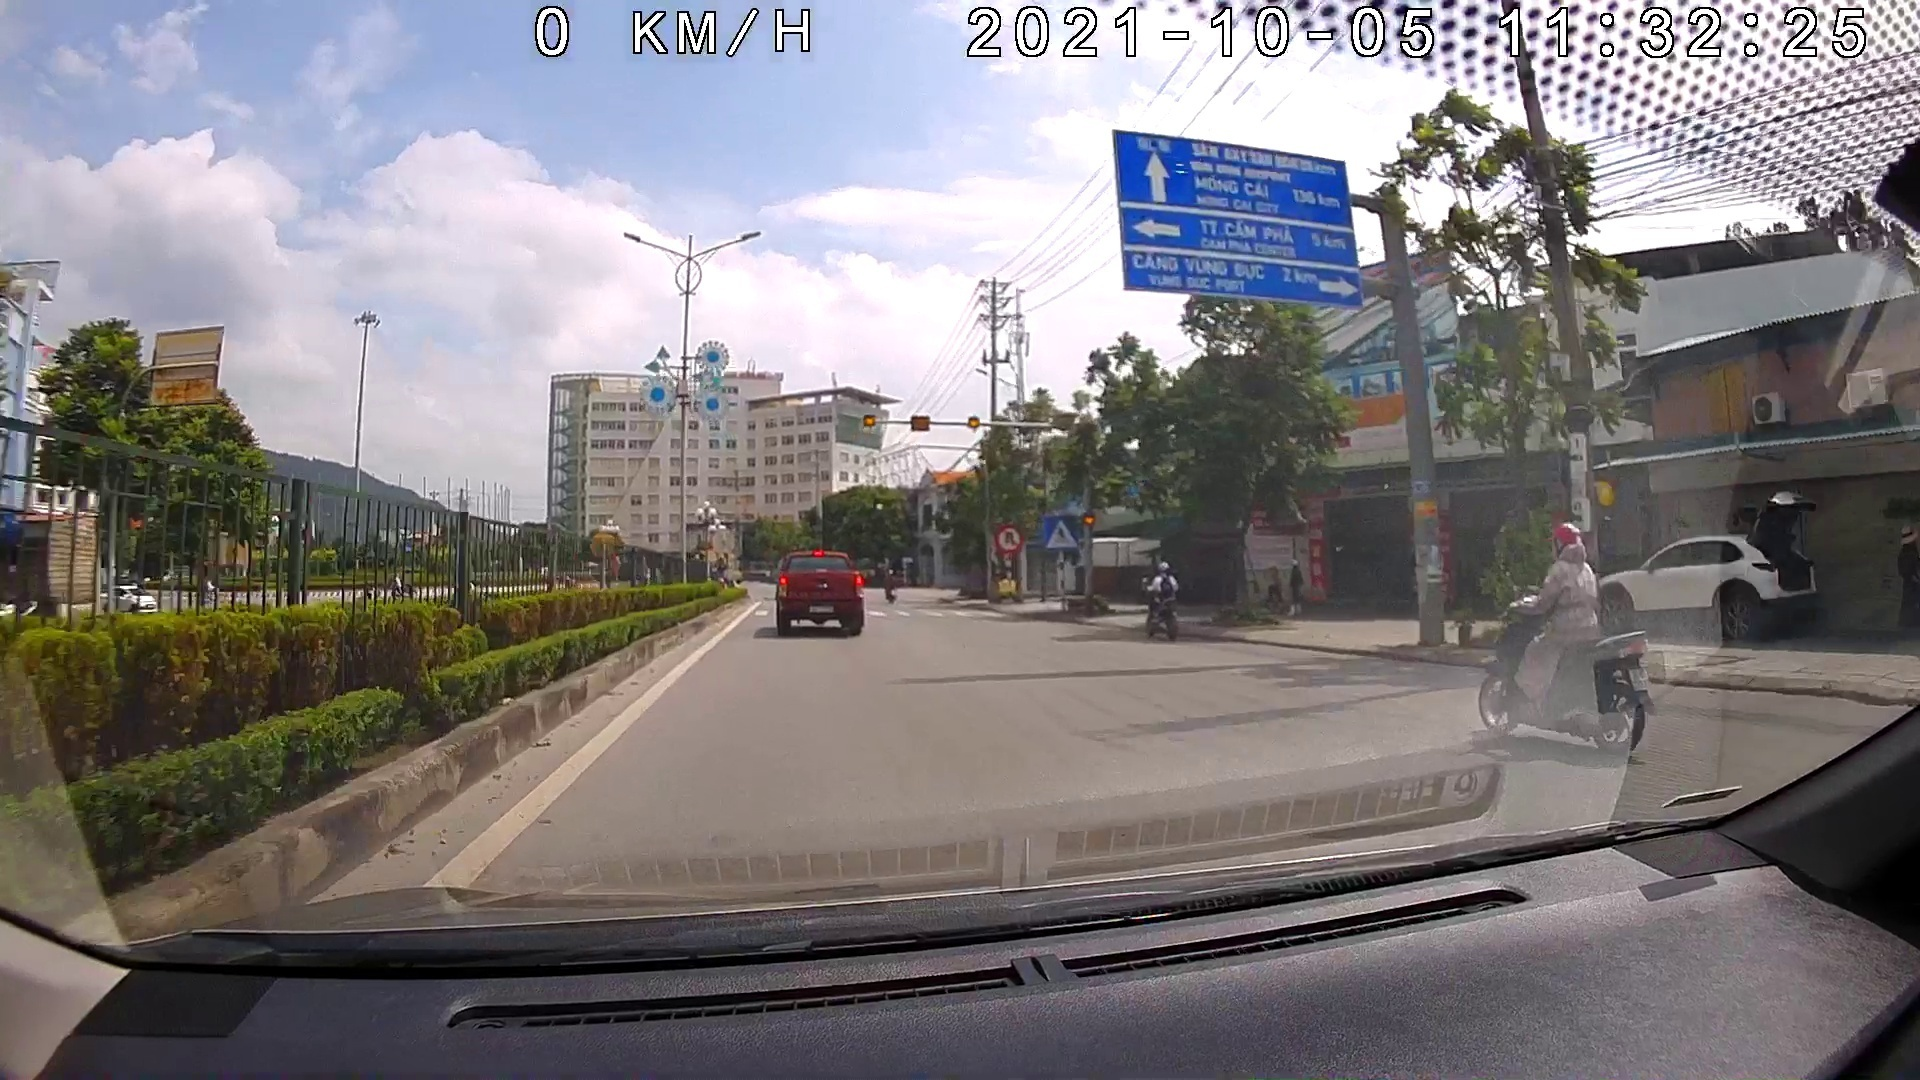Bien khac: (996, 522, 1021, 551)
Nguoi di bo: (1044, 516, 1077, 553)
